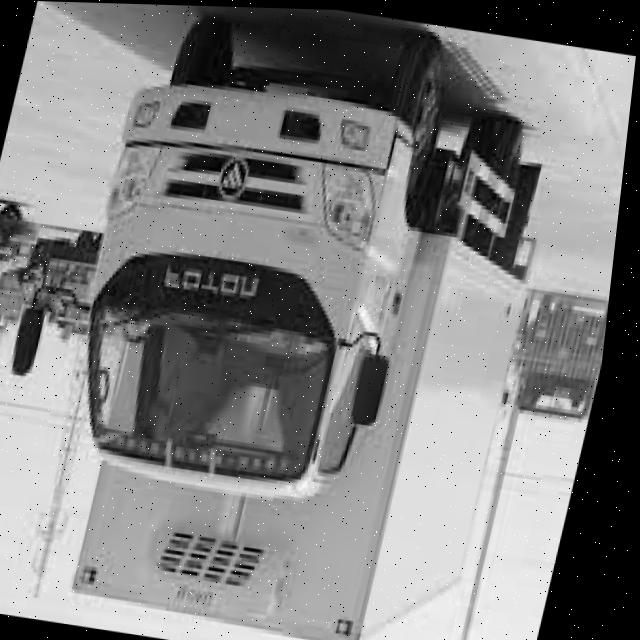truck: (1, 1, 486, 554)
